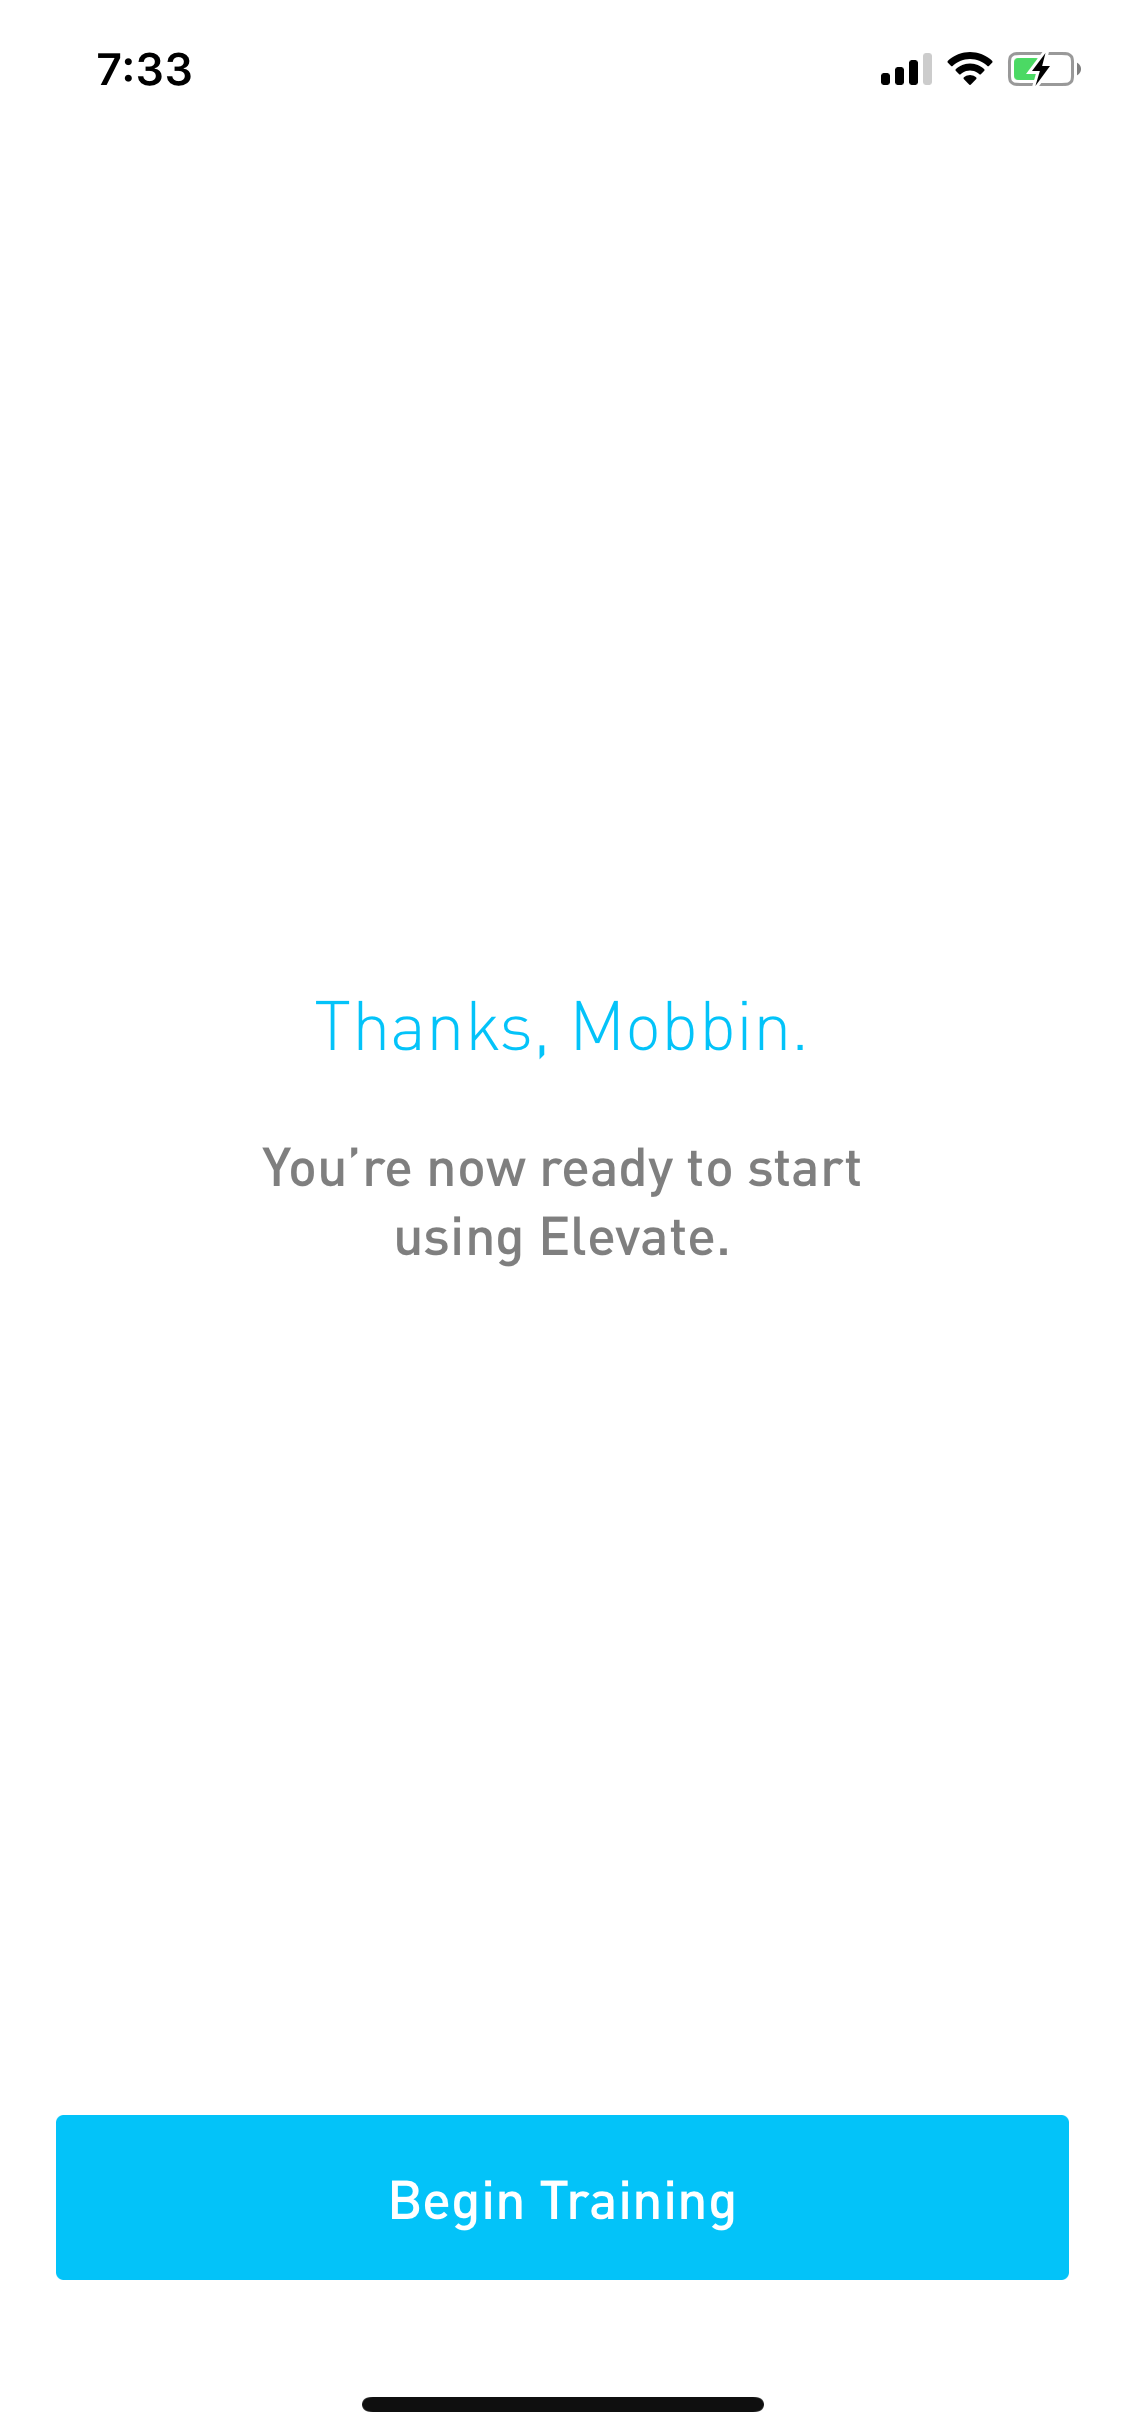Buttons: (39, 2082, 1088, 2302)
